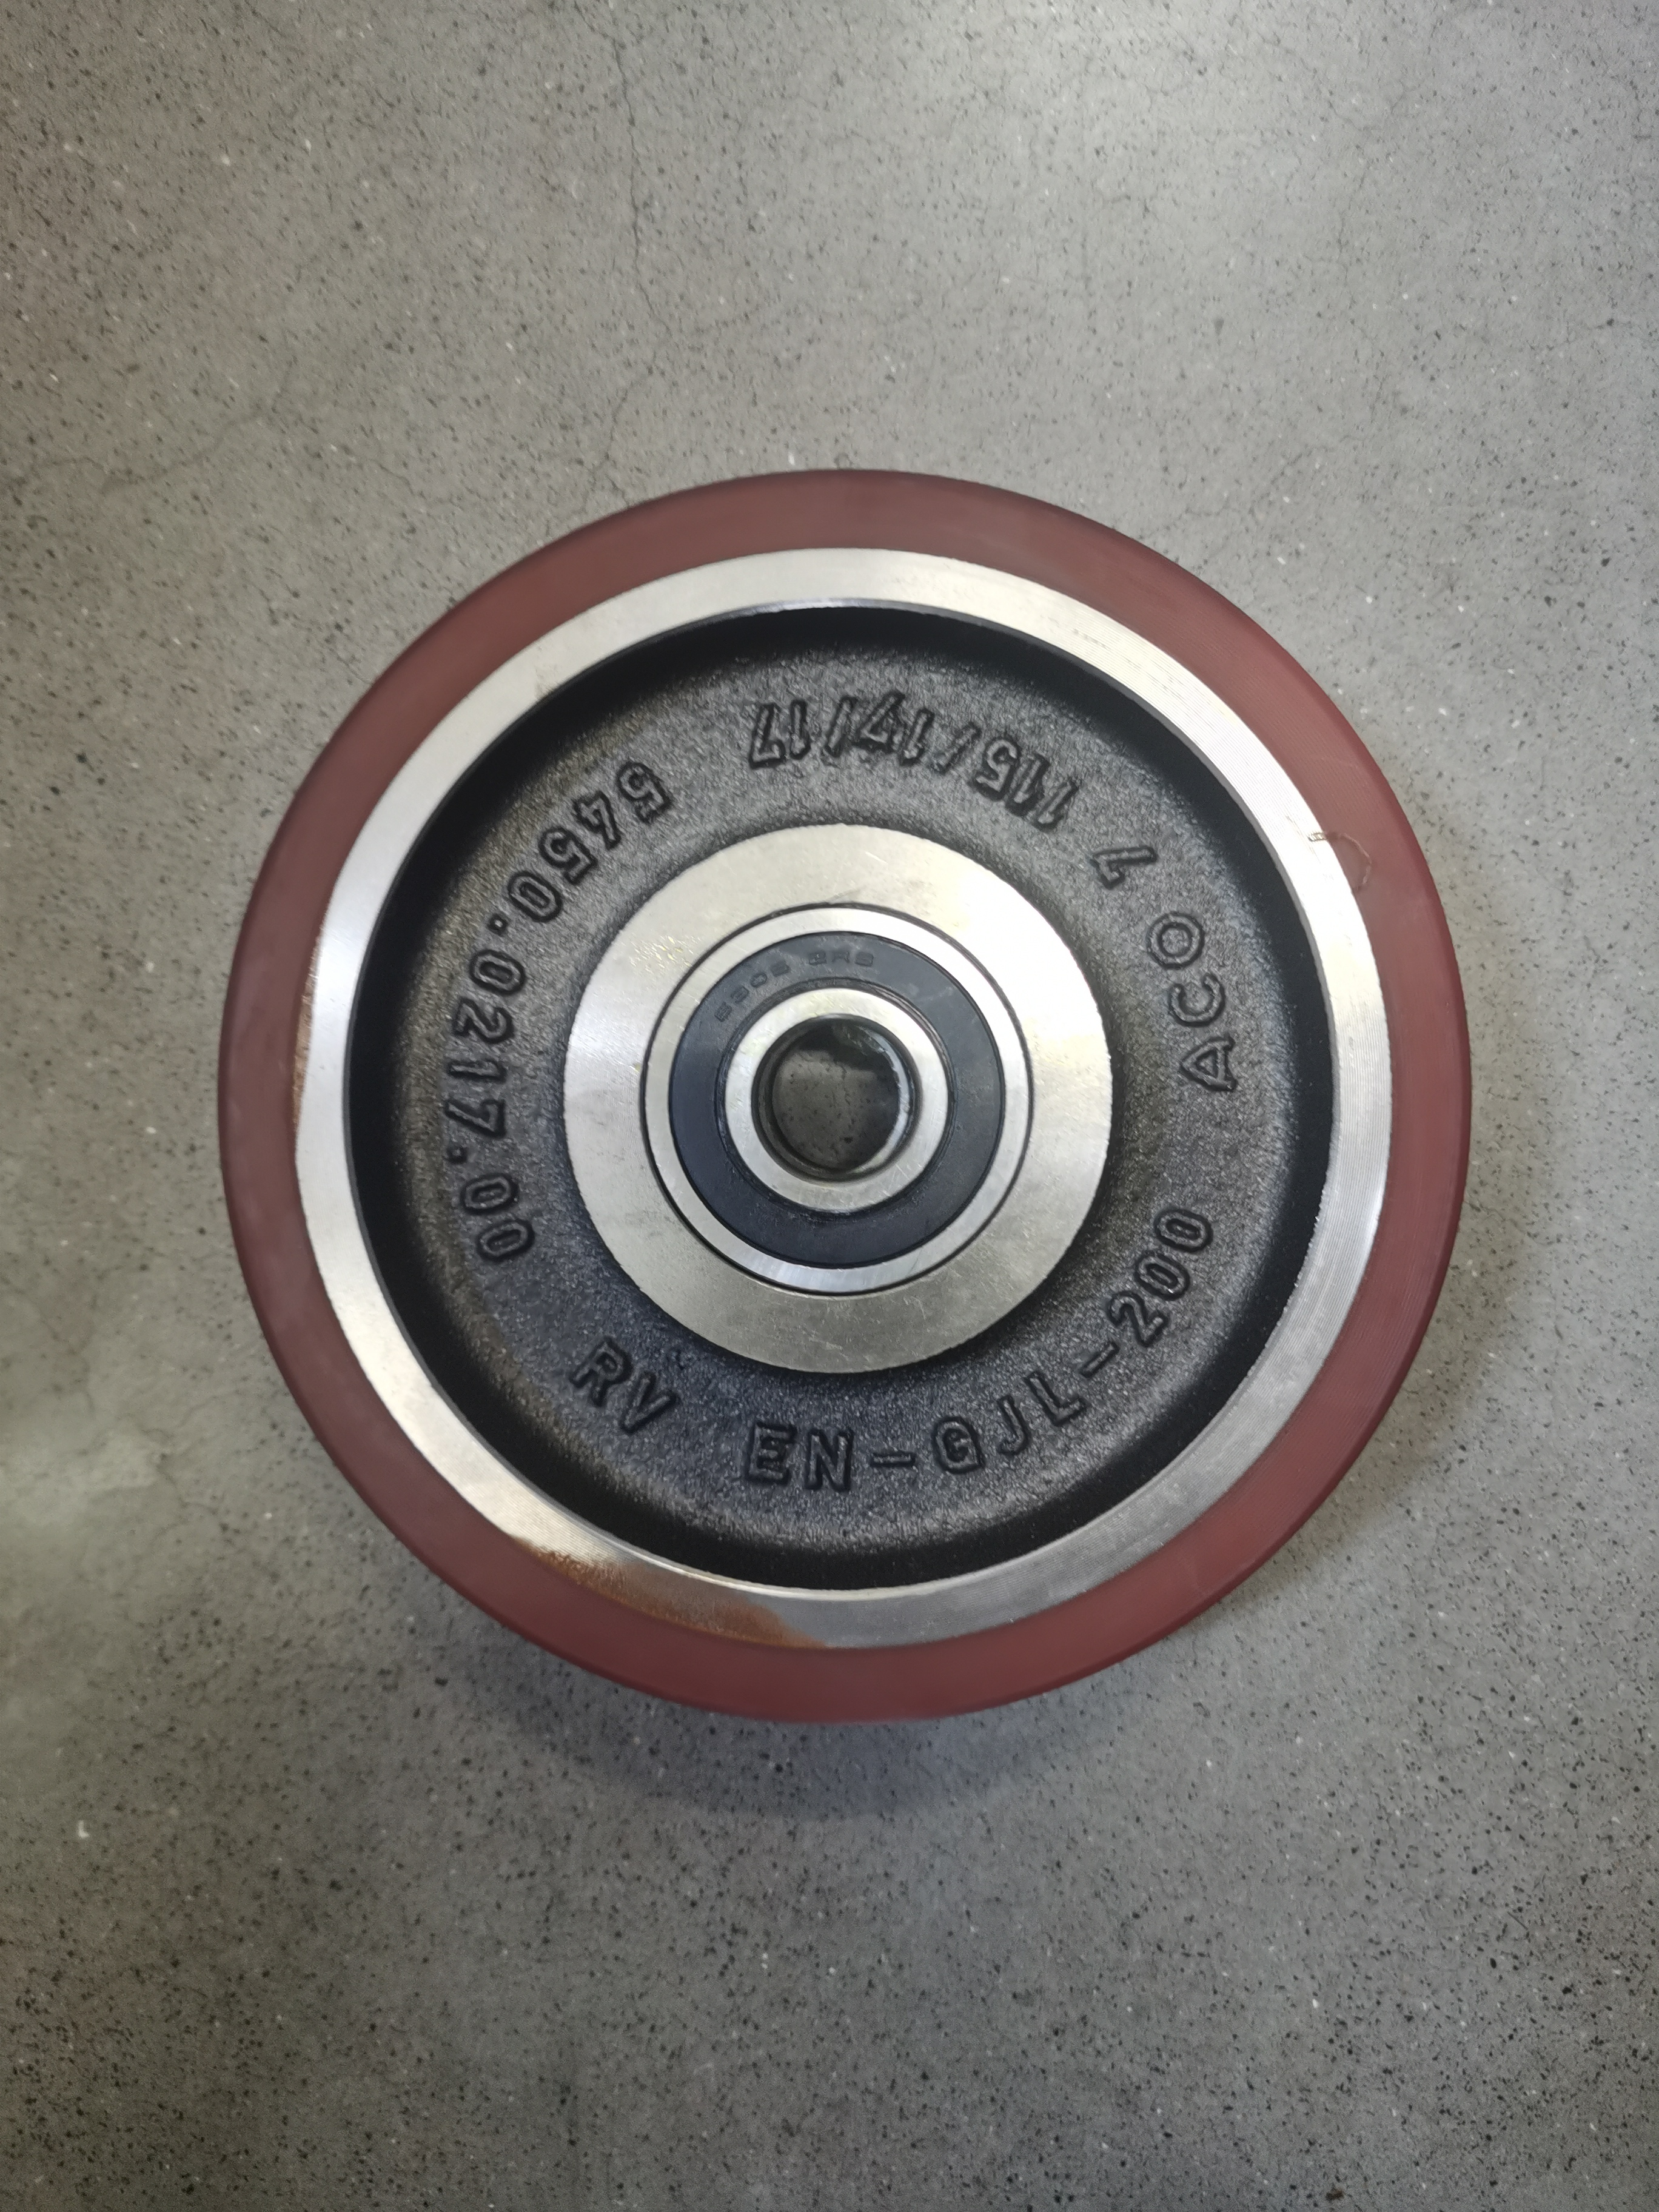good_wheel: (251, 376, 1483, 1775)
